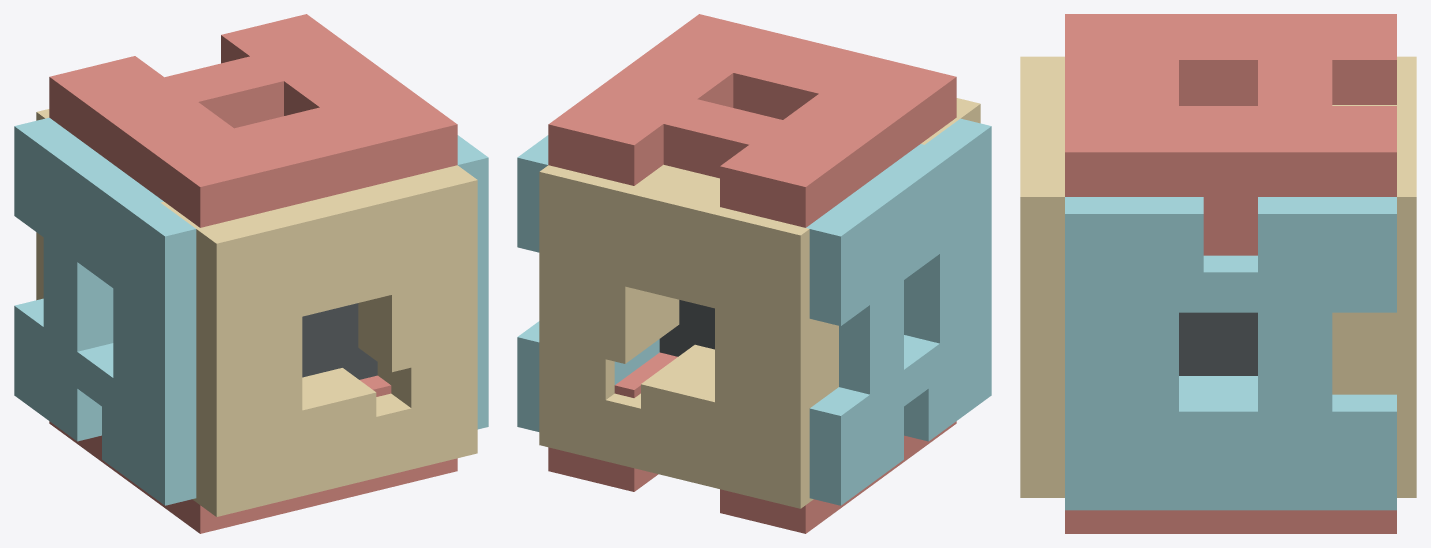
File: tinker.obj
The picture shows the model from 3 angles, left to right: view 1: azimuth 30°, elevation 25°; view 2: azimuth 150°, elevation 25°; view 3: azimuth 270°, elevation 25°; orthographic projection. The views are drawn at different scales.
Parts seen in each view (by area): view 1: group_0_16311991, group_0_15308428, group_0_11593967, group_0_6383466; view 2: group_0_16311991, group_0_15308428, group_0_11593967, group_0_6383466; view 3: group_0_11593967, group_0_15308428, group_0_16311991, group_0_6383466.
Part boxes in pixels (box(x1,y1,x2,y2)): group_0_16311991: box(36, 109, 477, 516); group_0_15308428: box(49, 14, 457, 533); group_0_11593967: box(14, 117, 488, 505); group_0_6383466: box(302, 303, 377, 379); group_0_16311991: box(539, 98, 980, 508); group_0_15308428: box(548, 14, 956, 533); group_0_11593967: box(517, 118, 991, 505); group_0_6383466: box(659, 300, 714, 356); group_0_11593967: box(1065, 197, 1396, 510); group_0_15308428: box(1065, 14, 1396, 533); group_0_16311991: box(1020, 56, 1416, 497); group_0_6383466: box(1179, 312, 1257, 375).
Bounding box in the file's own units: 191 × 196 × 184.
